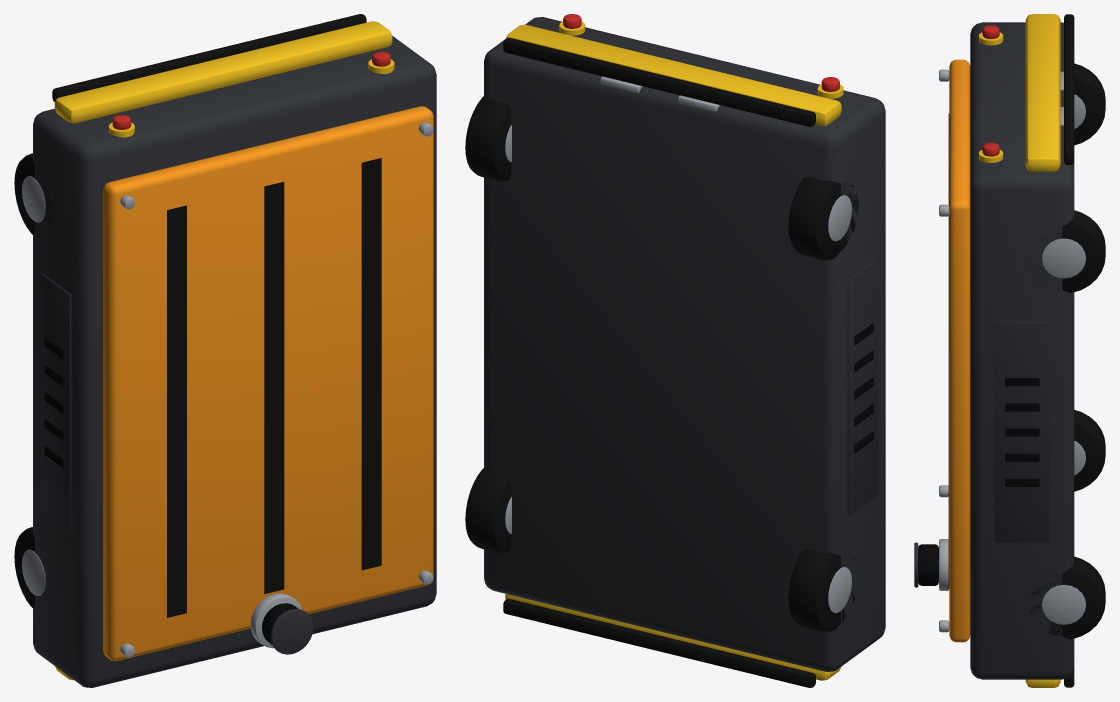
Rendered from AGV_Large.fbx.
The picture shows the model from 3 angles, left to right: view 1: azimuth 30°, elevation 25°; view 2: azimuth 150°, elevation 25°; view 3: azimuth 270°, elevation 25°; orthographic projection. The views are drawn at different scales.
Visible parts, largest first — view 1: Deck Plate, Chassis, Bumper, Grip Strip, Grip Strip.001, Grip Strip.002, Service Panel.001, Bumper Edge, Cap, Tire.002, Base, Hub.002 (+2 smaller); view 2: Chassis, Service Panel.001, Bumper, Bumper Edge.001, Bumper Edge, Tire.002, Tire.003, Tire, Tire.001, Bumper.001, Hub.002, Hub.003; view 3: Chassis, Deck Plate, Service Panel, Bumper, Tire.001, Tire, Tire.002, Tire.003, Bumper Edge, Hub, Hub.001, Head (+9 smaller).
Part boxes in pixels (x1,y1,x2,y2): Deck Plate: (103,106,433,661); Chassis: (33,35,436,687); Bumper: (54,21,392,123); Grip Strip: (361,158,381,570); Grip Strip.001: (264,181,284,593); Grip Strip.002: (167,205,186,617); Service Panel.001: (40,273,71,532); Bumper Edge: (52,14,366,101); Cap: (270,608,313,654); Tire.002: (14,153,52,234); Base: (250,593,301,648); Hub.002: (22,176,45,222); Chassis: (484,17,885,671); Service Panel.001: (847,259,878,516); Bumper: (506,24,841,126); Bumper Edge.001: (503,599,815,687); Bumper Edge: (503,38,815,126); Tire.002: (788,177,858,260); Tire.003: (788,549,854,632); Tire: (465,96,511,181); Tire.001: (465,468,511,553); Bumper.001: (505,594,840,680); Hub.002: (828,195,851,241); Hub.003: (828,567,851,613); Chassis: (970,22,1074,679); Deck Plate: (949,59,970,642); Service Panel: (994,321,1049,542); Bumper: (1025,14,1060,171); Tire.001: (1030,556,1105,639); Tire: (1032,210,1105,292); Tire.002: (1074,63,1105,145); Tire.003: (1074,410,1105,491); Bumper Edge: (1064,14,1074,164); Hub: (1042,238,1085,278); Hub.001: (1042,585,1085,624); Head: (918,544,938,585).
Bounding box in the file's own units: 1.11 × 1.7 × 0.551.
